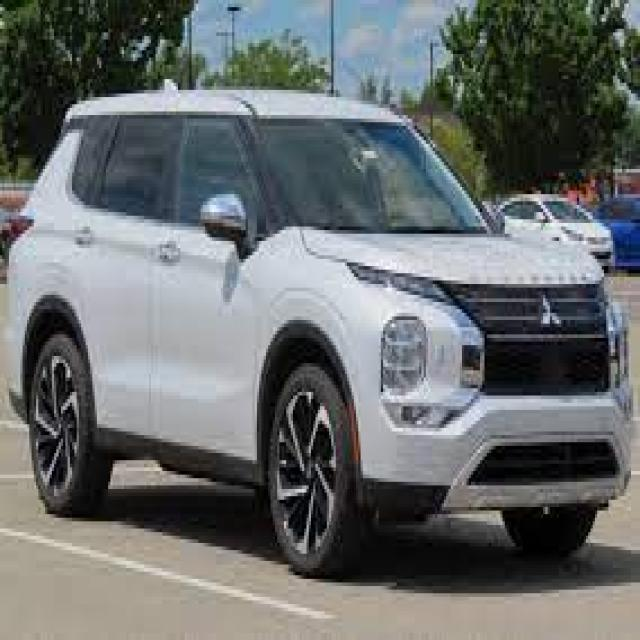light_vehicle: (2, 84, 633, 580)
